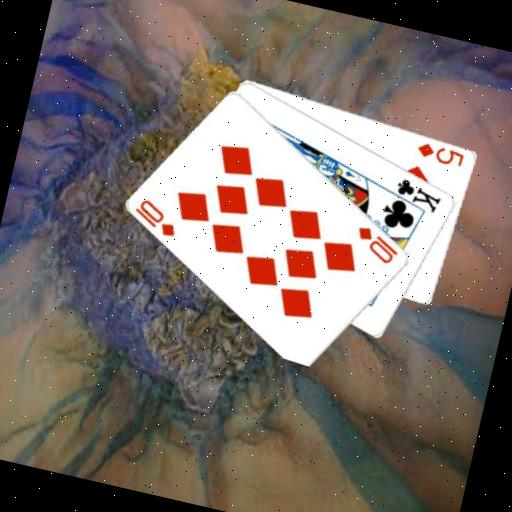10D: (127, 194, 184, 241), (349, 222, 404, 268)
5D: (413, 138, 468, 171)
KC: (383, 172, 447, 218)
